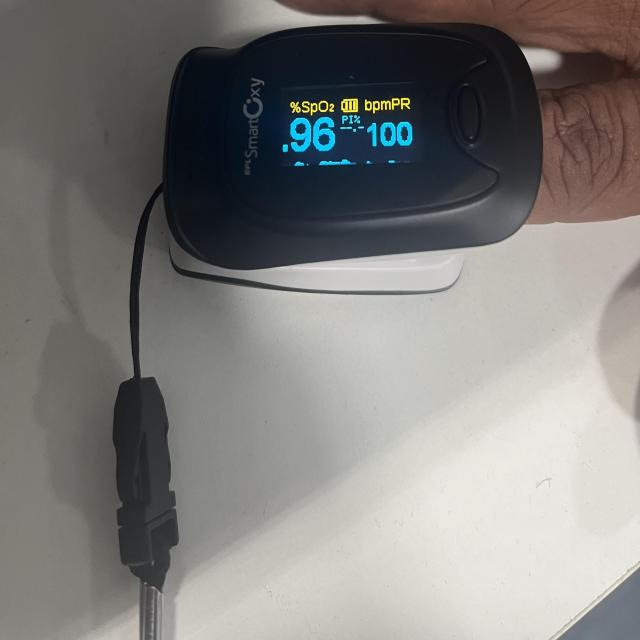spo2: (163, 23, 544, 294)
